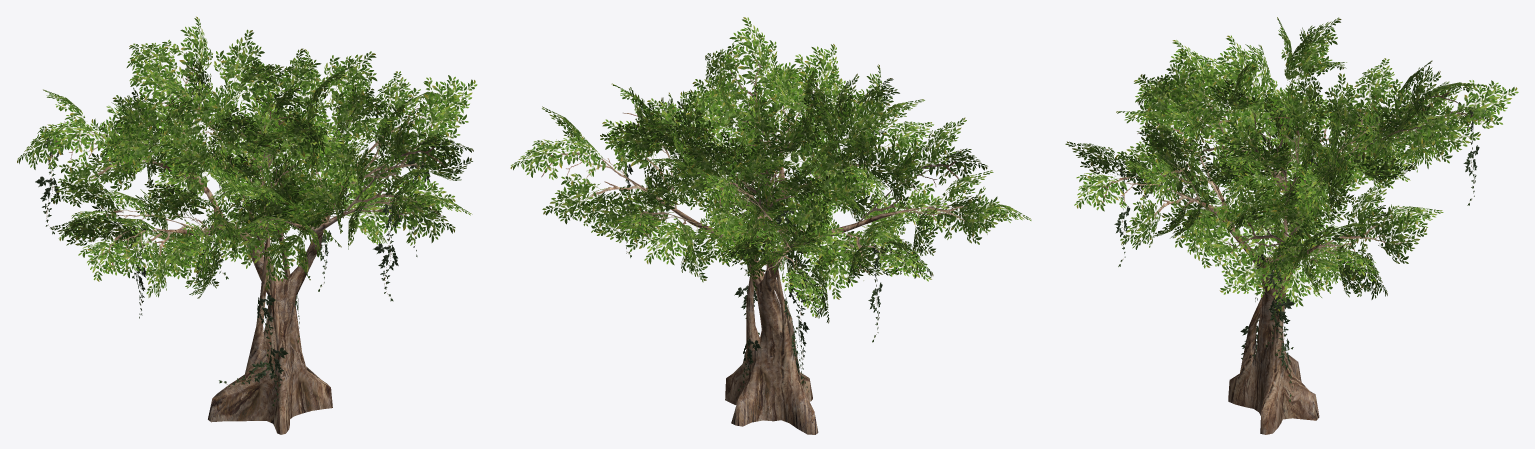
Rendered from Banyan.fbx.
3 views of the same model, side by side, from view 1: azimuth 30°, elevation 25°; view 2: azimuth 150°, elevation 25°; view 3: azimuth 270°, elevation 25° (orthographic).
Visible parts, largest first — view 1: BanyanTree; view 2: BanyanTree; view 3: BanyanTree.
Part boxes in pixels (x1=…): BanyanTree: x1=17, y1=16, x2=477, y2=434; BanyanTree: x1=510, y1=17, x2=1031, y2=434; BanyanTree: x1=1065, y1=17, x2=1518, y2=434.
Bounding box in the file's own units: 32.98 × 24.25 × 28.69.
